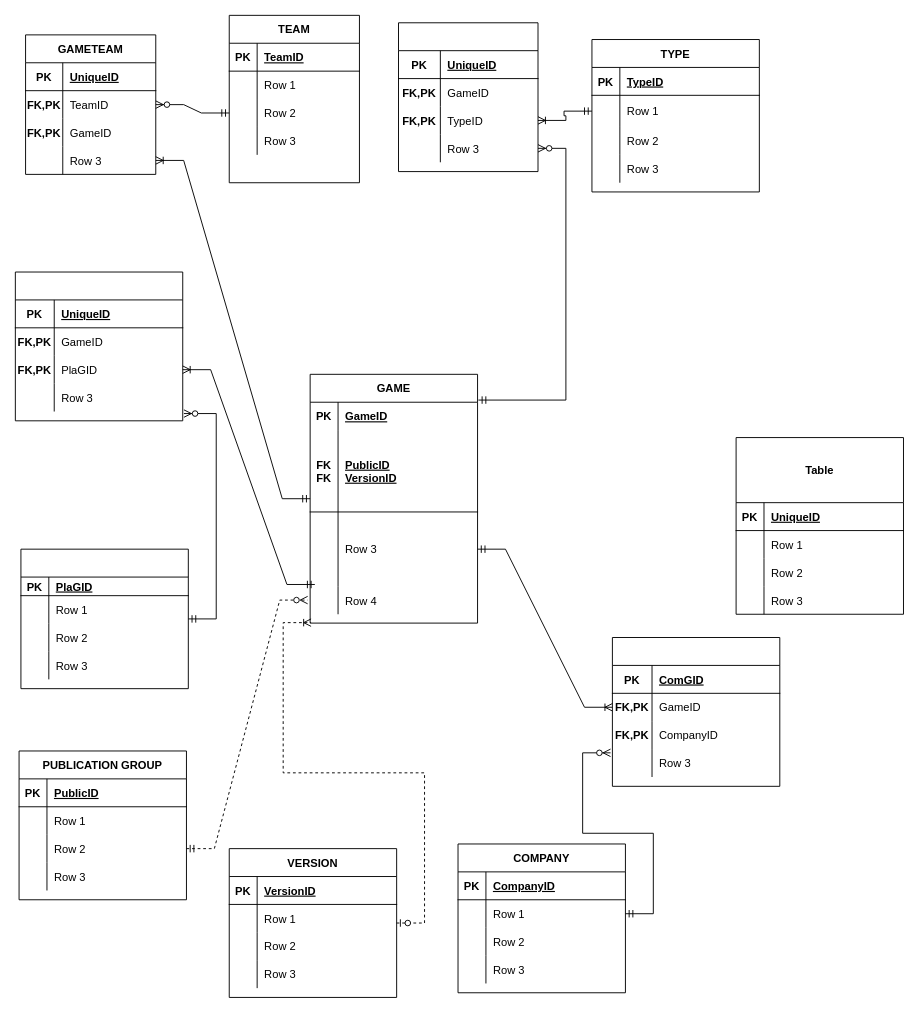
Image size: 919x1013. Some labels were removed from this diagram. The shapes that lost their labels are listed below. From the top down, each one's box as (x1, y1, x2, y2) in pixels, then its label:
(398, 22, 538, 172): TYPEGAME
(14, 271, 183, 421): PLATFORM
(20, 548, 188, 689): PLATFORMGAME
(611, 637, 780, 786): COMPANYGAME
